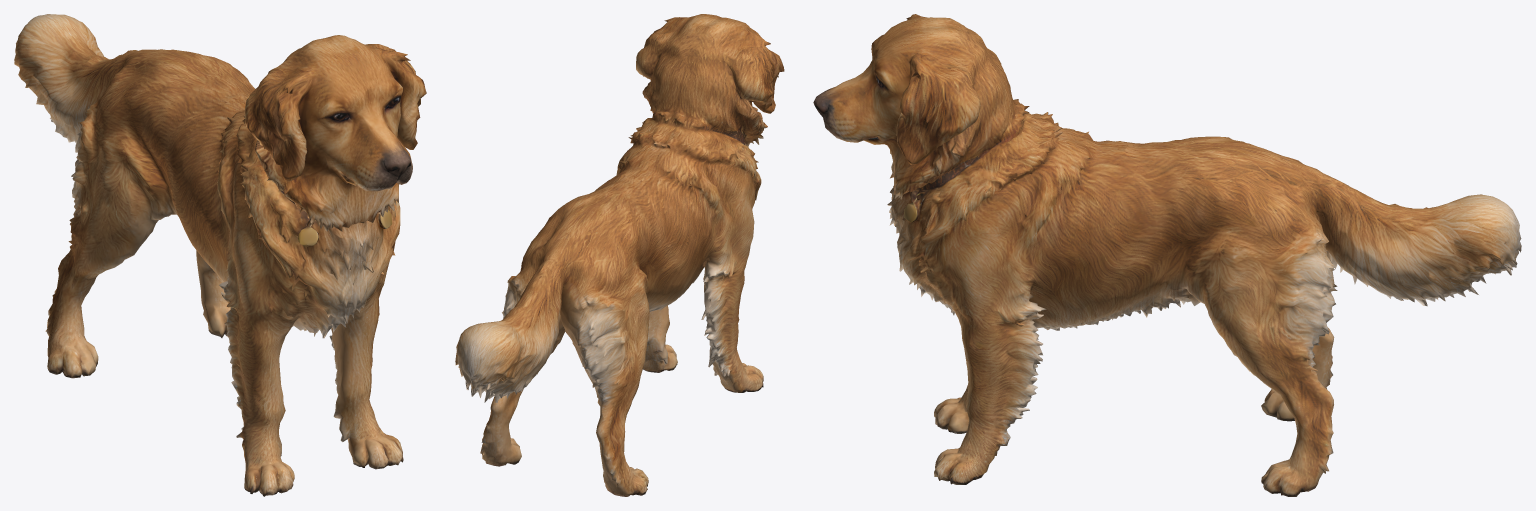
Rendered from golden.glb.
3 views of the same model, side by side, from view 1: azimuth 30°, elevation 25°; view 2: azimuth 150°, elevation 25°; view 3: azimuth 270°, elevation 25° (orthographic). The views are drawn at different scales.
Parts seen in each view (by area): view 1: tripo_node_10e82786-1d00-4b74-934e-2ef3da223813; view 2: tripo_node_10e82786-1d00-4b74-934e-2ef3da223813; view 3: tripo_node_10e82786-1d00-4b74-934e-2ef3da223813.
Boxes of the visible parts, x1,y1,x2,y2 form: tripo_node_10e82786-1d00-4b74-934e-2ef3da223813: (14,14,426,496); tripo_node_10e82786-1d00-4b74-934e-2ef3da223813: (455,14,784,496); tripo_node_10e82786-1d00-4b74-934e-2ef3da223813: (813,14,1521,496).
Size of the model in its own units: 0.325 by 0.6631 by 1.
1 material, 1 textured.
